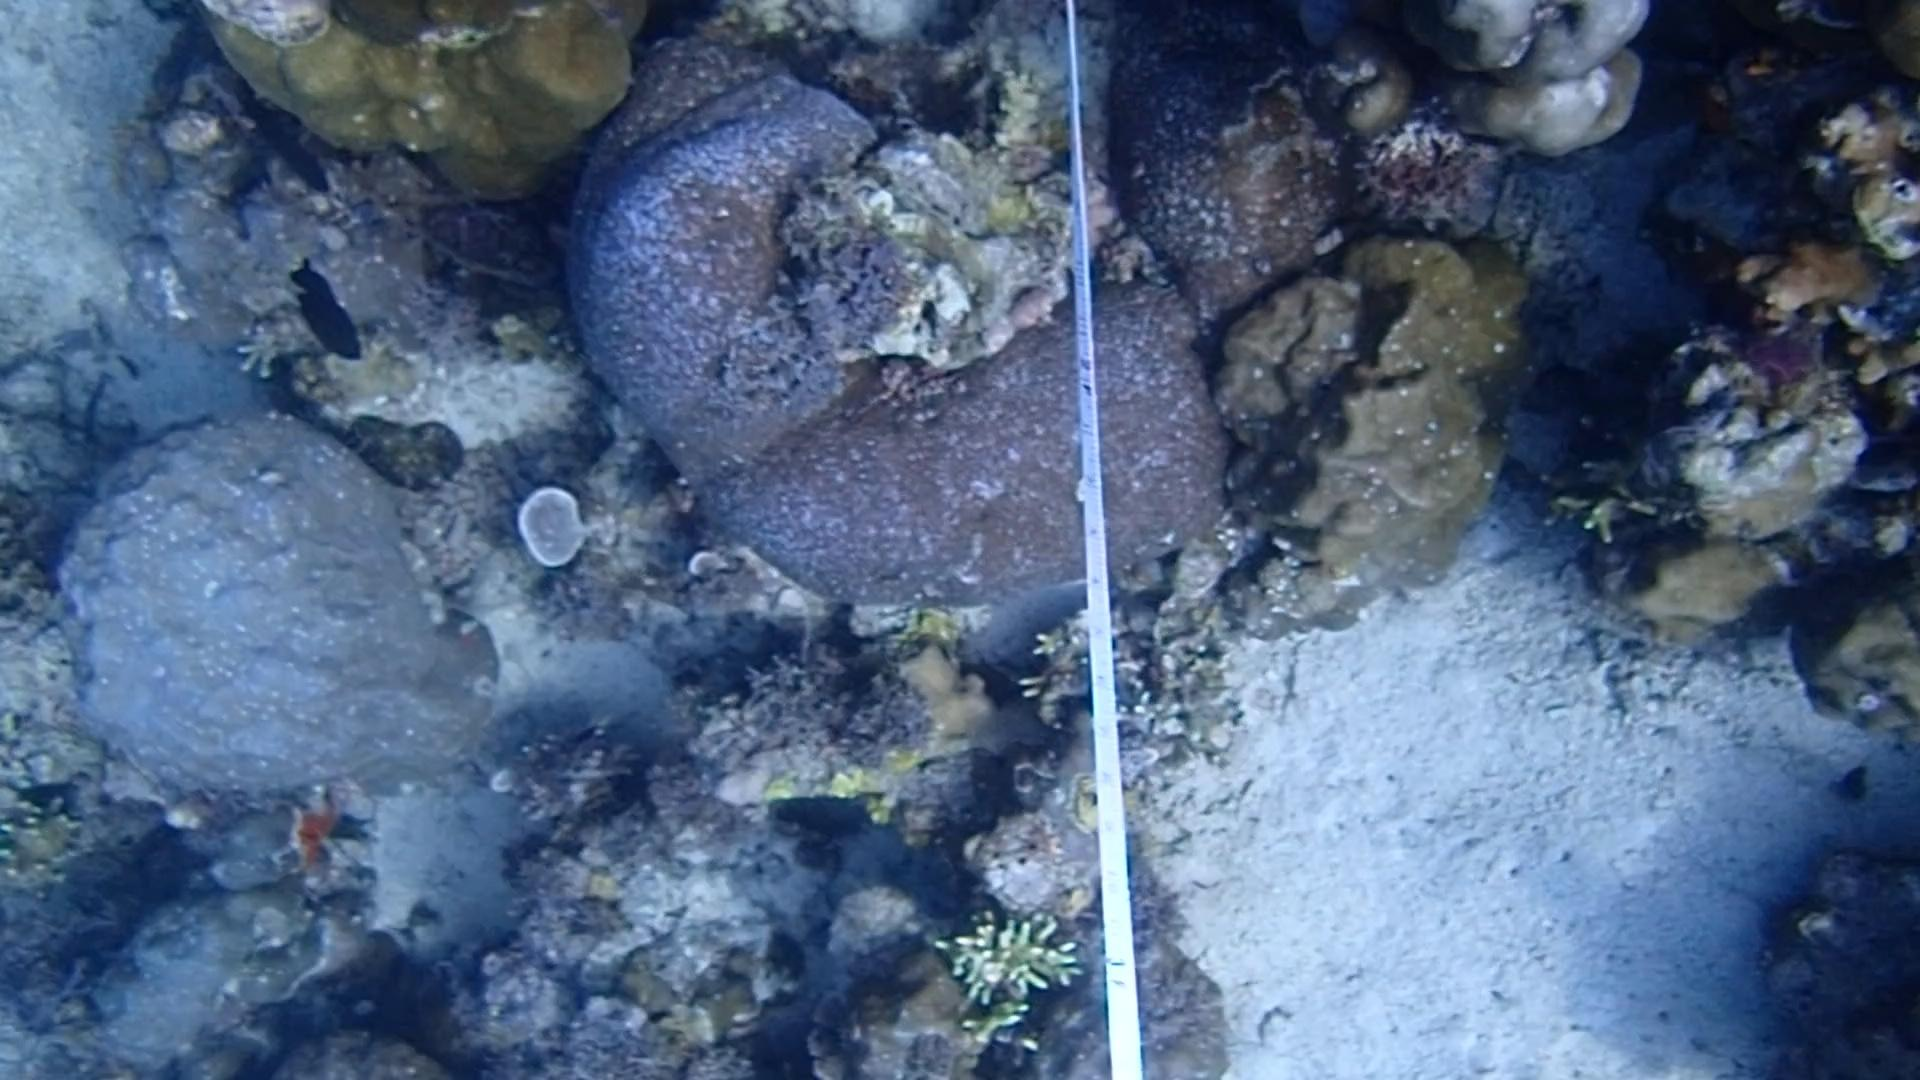Dark Fish: (281, 251, 372, 373)
